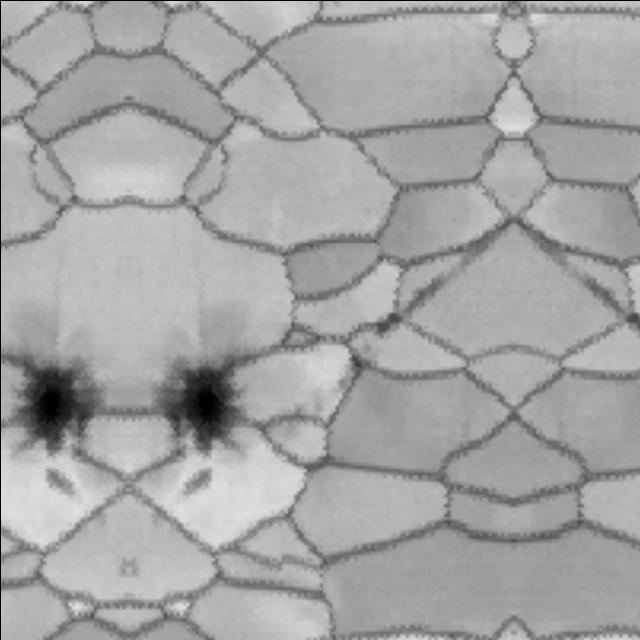good_void: (147, 355, 258, 483), (0, 355, 107, 483), (328, 373, 349, 392)
